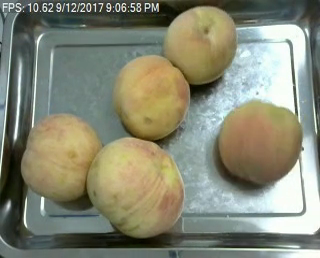Peach: (116, 123, 207, 227), (216, 100, 302, 185), (23, 114, 104, 202), (112, 54, 190, 139), (162, 4, 239, 85)
